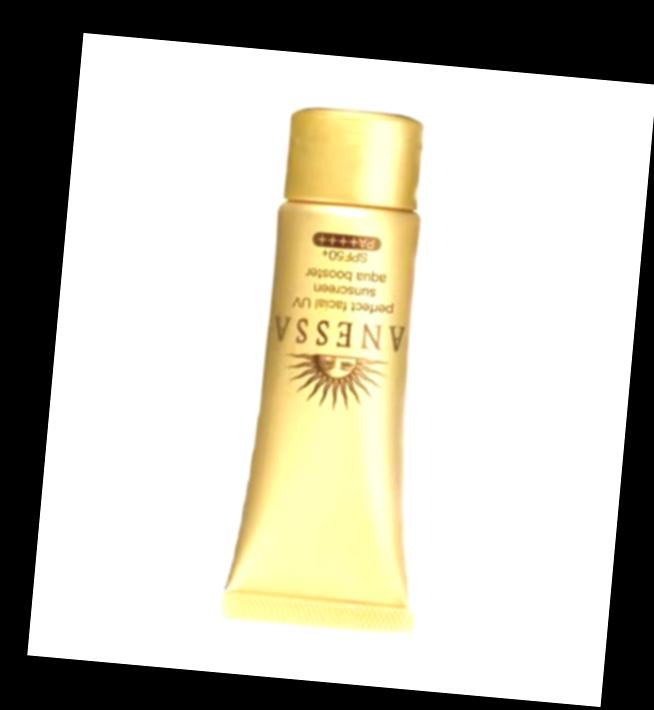cosmetic: (219, 102, 463, 634)
